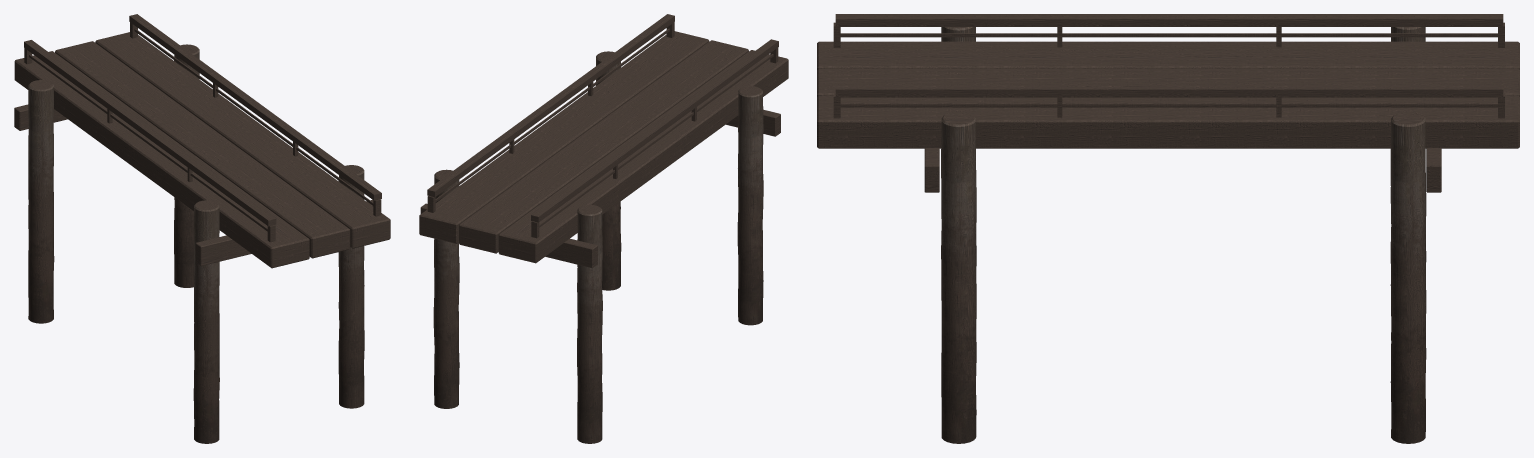
The model's file is japanese_walkway_bridge_straight.FBX.
3 views of the same model, side by side, from view 1: azimuth 30°, elevation 25°; view 2: azimuth 150°, elevation 25°; view 3: azimuth 270°, elevation 25° (orthographic). The views are drawn at different scales.
Visible parts, largest first — view 1: japanese_walkway_bridge_straight; view 2: japanese_walkway_bridge_straight; view 3: japanese_walkway_bridge_straight.
Part boxes in pixels (x1,y1,x2,y2): japanese_walkway_bridge_straight: (14,14,390,443); japanese_walkway_bridge_straight: (419,14,788,443); japanese_walkway_bridge_straight: (817,14,1519,443).
Bounding box in the file's own units: 160 × 212 × 400.
